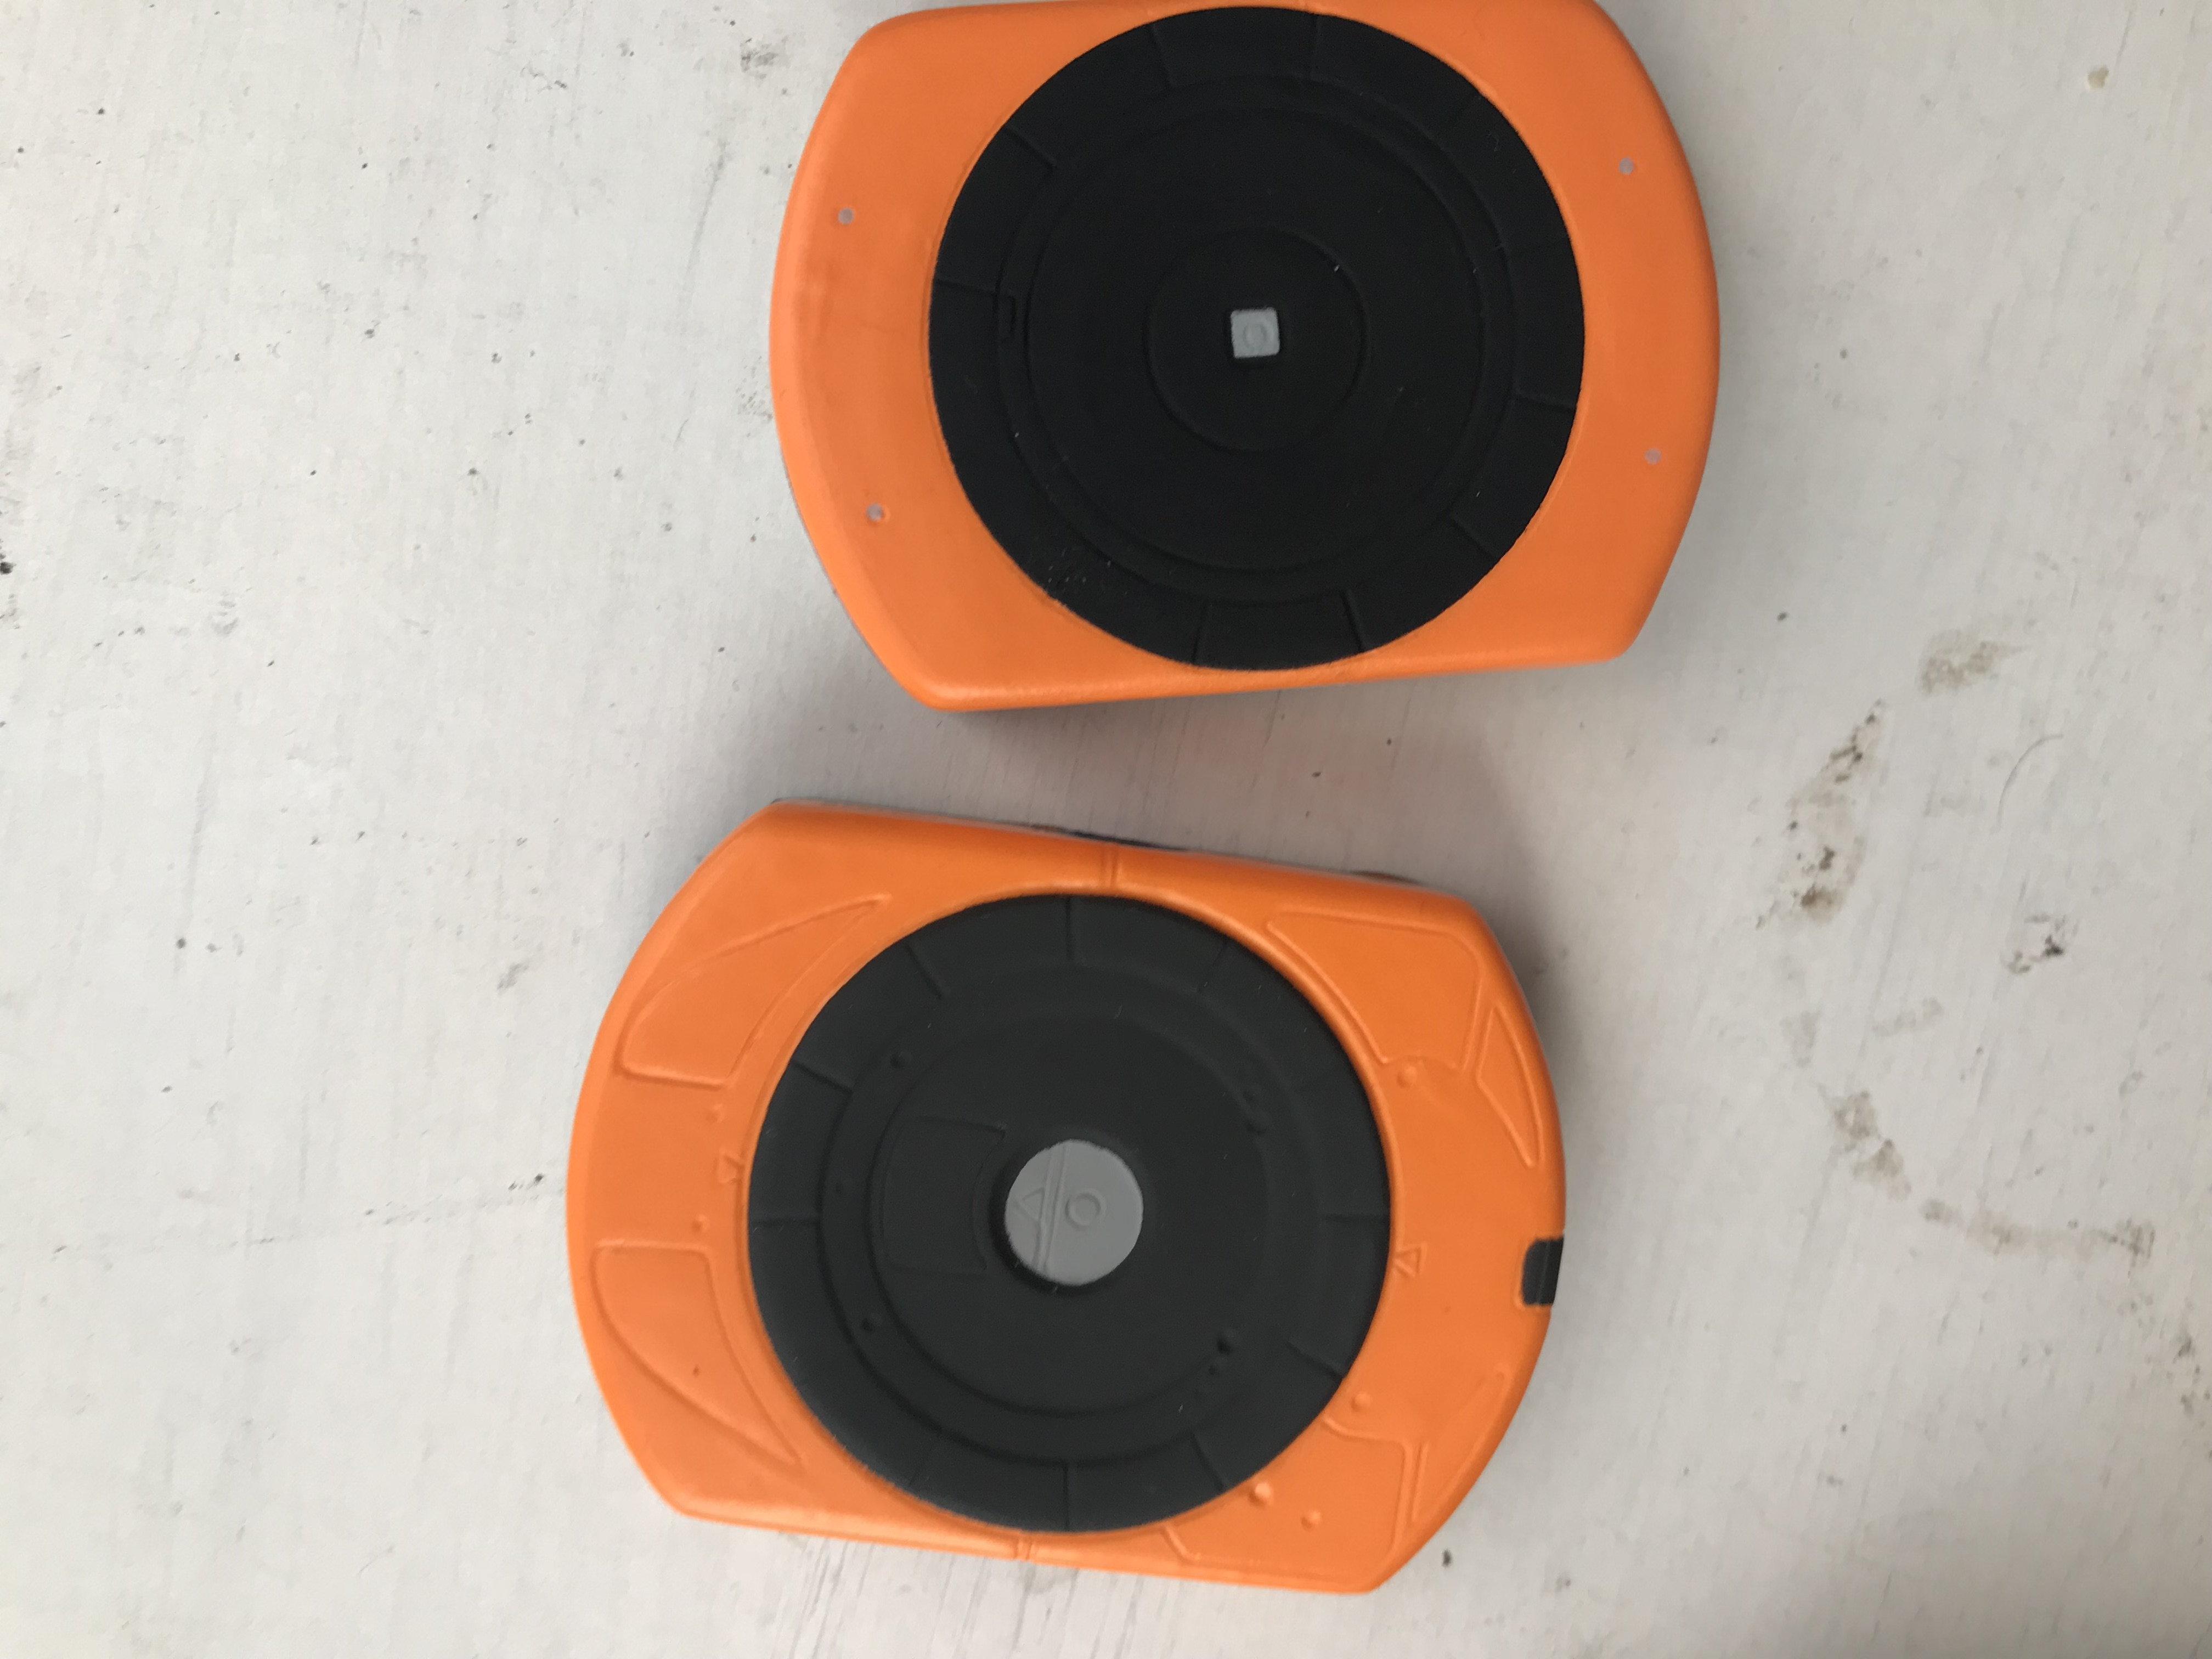amazon_bot: (529, 770, 1620, 1614), (730, 14, 1754, 728)
